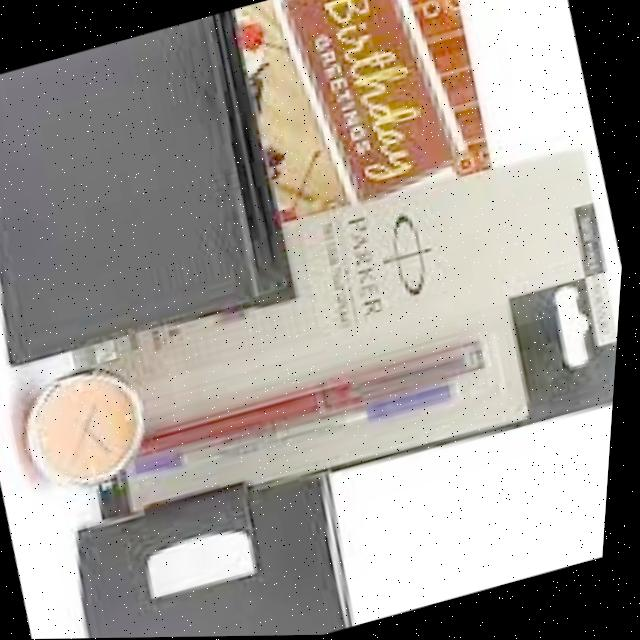cuzdan: (0, 1, 339, 380)
